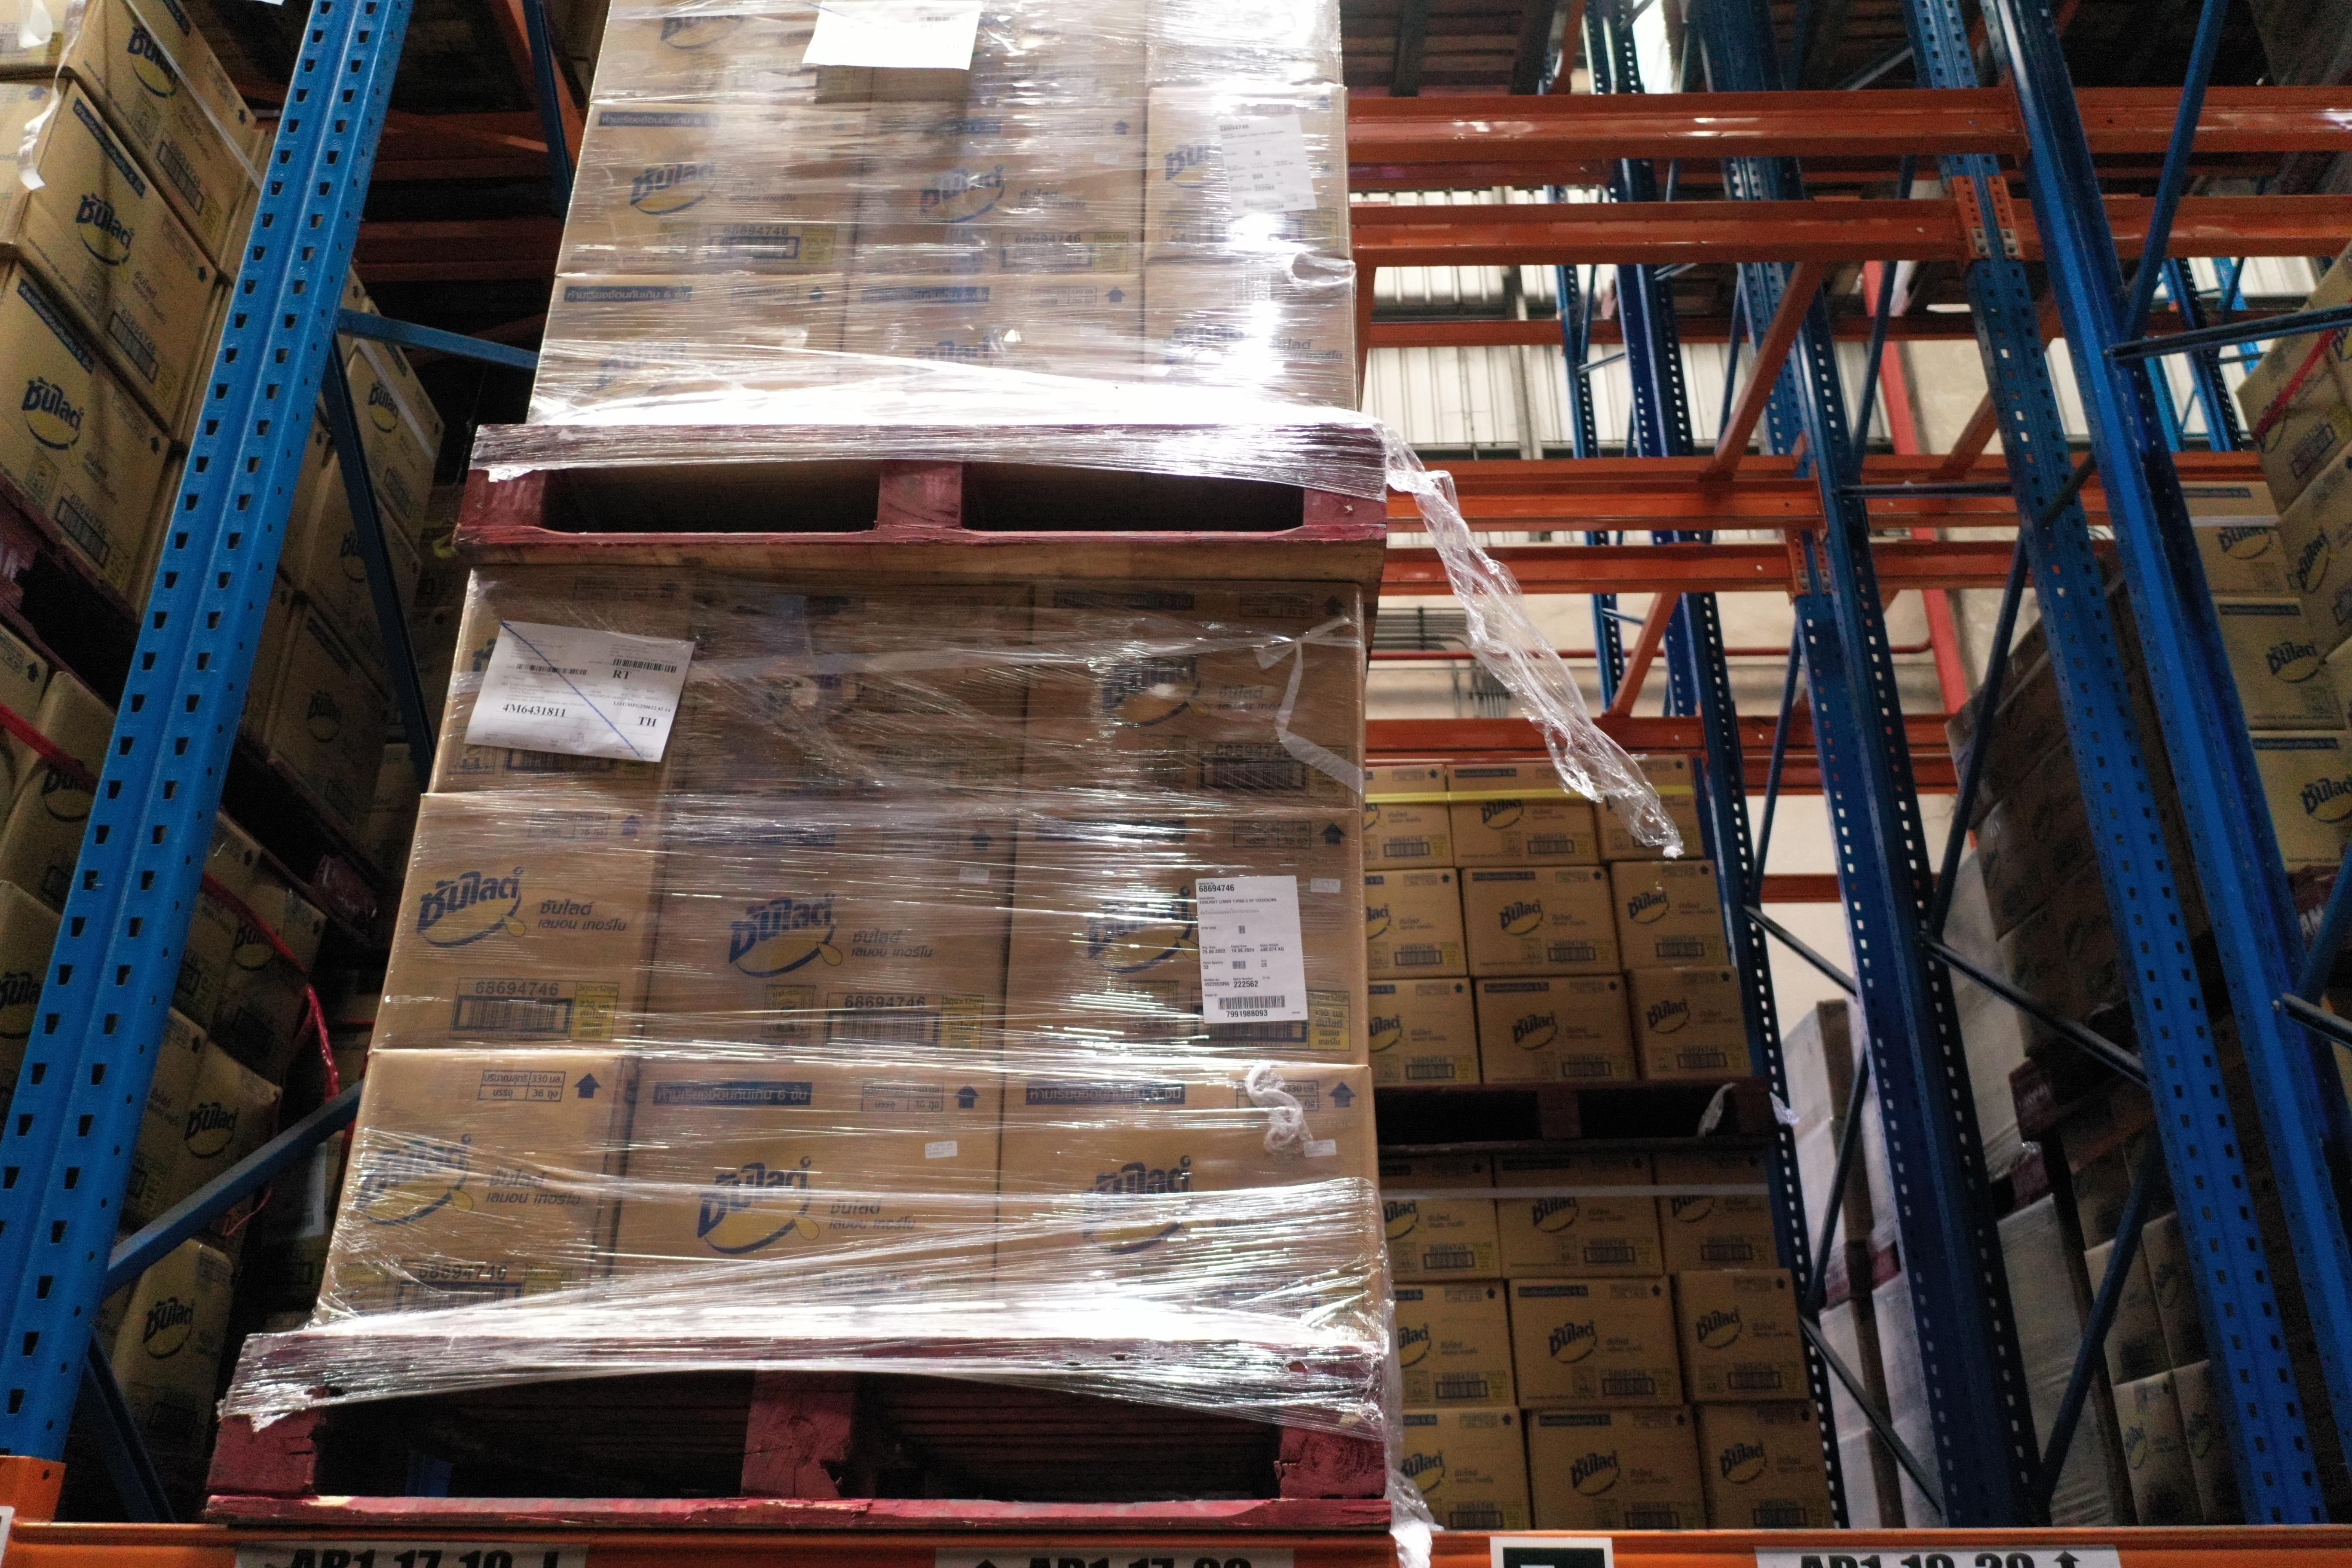-: (600, 1052, 1006, 1340), (990, 1059, 1384, 1347), (637, 793, 1020, 1062), (1004, 798, 1367, 1064), (311, 1046, 630, 1340), (670, 569, 1038, 800), (1018, 577, 1363, 807), (371, 791, 668, 1052), (425, 565, 691, 798), (555, 96, 868, 271), (850, 98, 1146, 273), (527, 271, 850, 425), (833, 273, 1146, 427), (1139, 257, 1358, 427), (1141, 91, 1349, 261)
2: (1507, 1274, 1689, 1410), (1524, 1403, 1713, 1533), (1496, 1153, 1668, 1276), (1697, 1398, 1839, 1535), (1461, 864, 1622, 982), (1386, 1410, 1536, 1533), (1676, 1269, 1813, 1402), (1473, 976, 1638, 1087), (1384, 1283, 1519, 1416), (1444, 761, 1601, 870), (1655, 1148, 1787, 1276), (1377, 1157, 1507, 1283), (1610, 859, 1731, 976), (1629, 973, 1753, 1083), (1589, 754, 1706, 864), (1368, 978, 1482, 1090), (1365, 866, 1468, 982), (1360, 766, 1452, 873)
